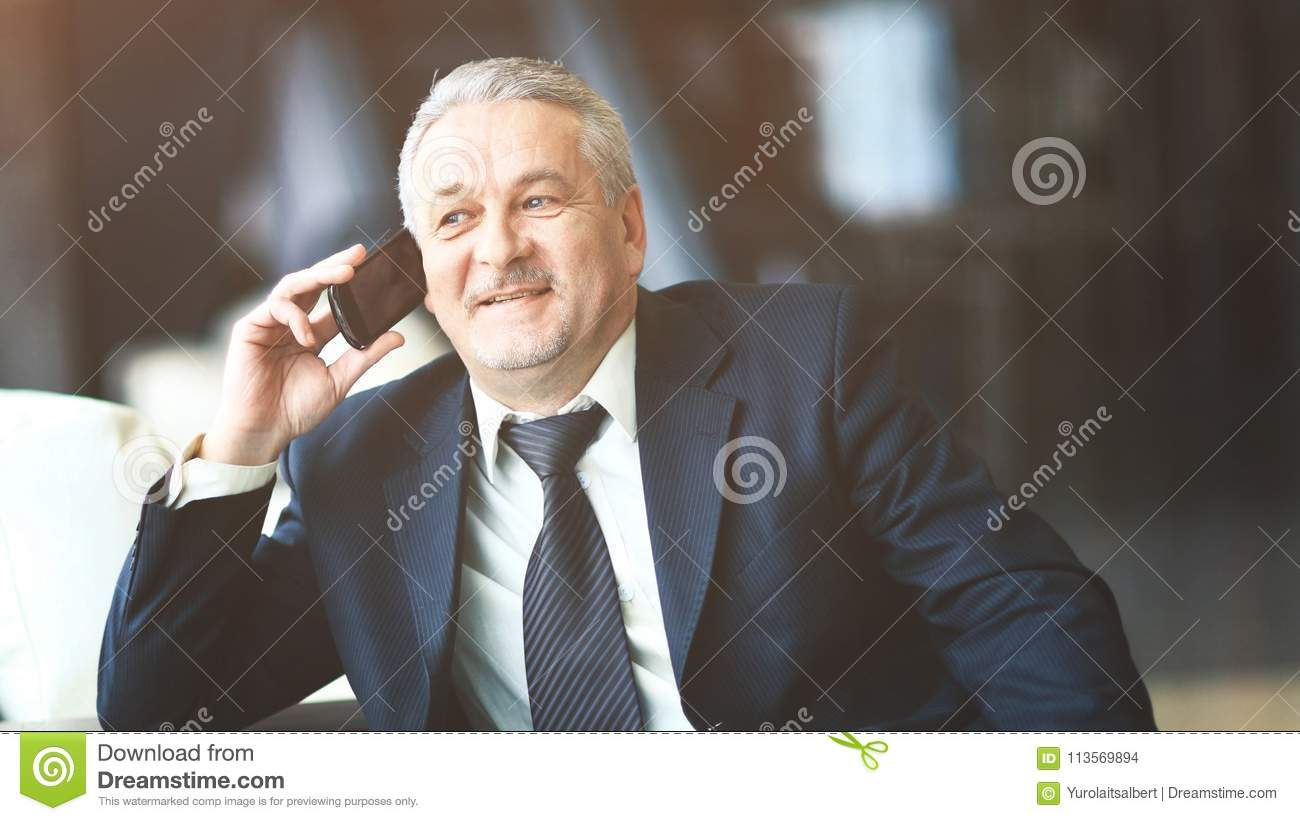phone: (324, 217, 428, 351)
talk: (210, 162, 589, 453)
